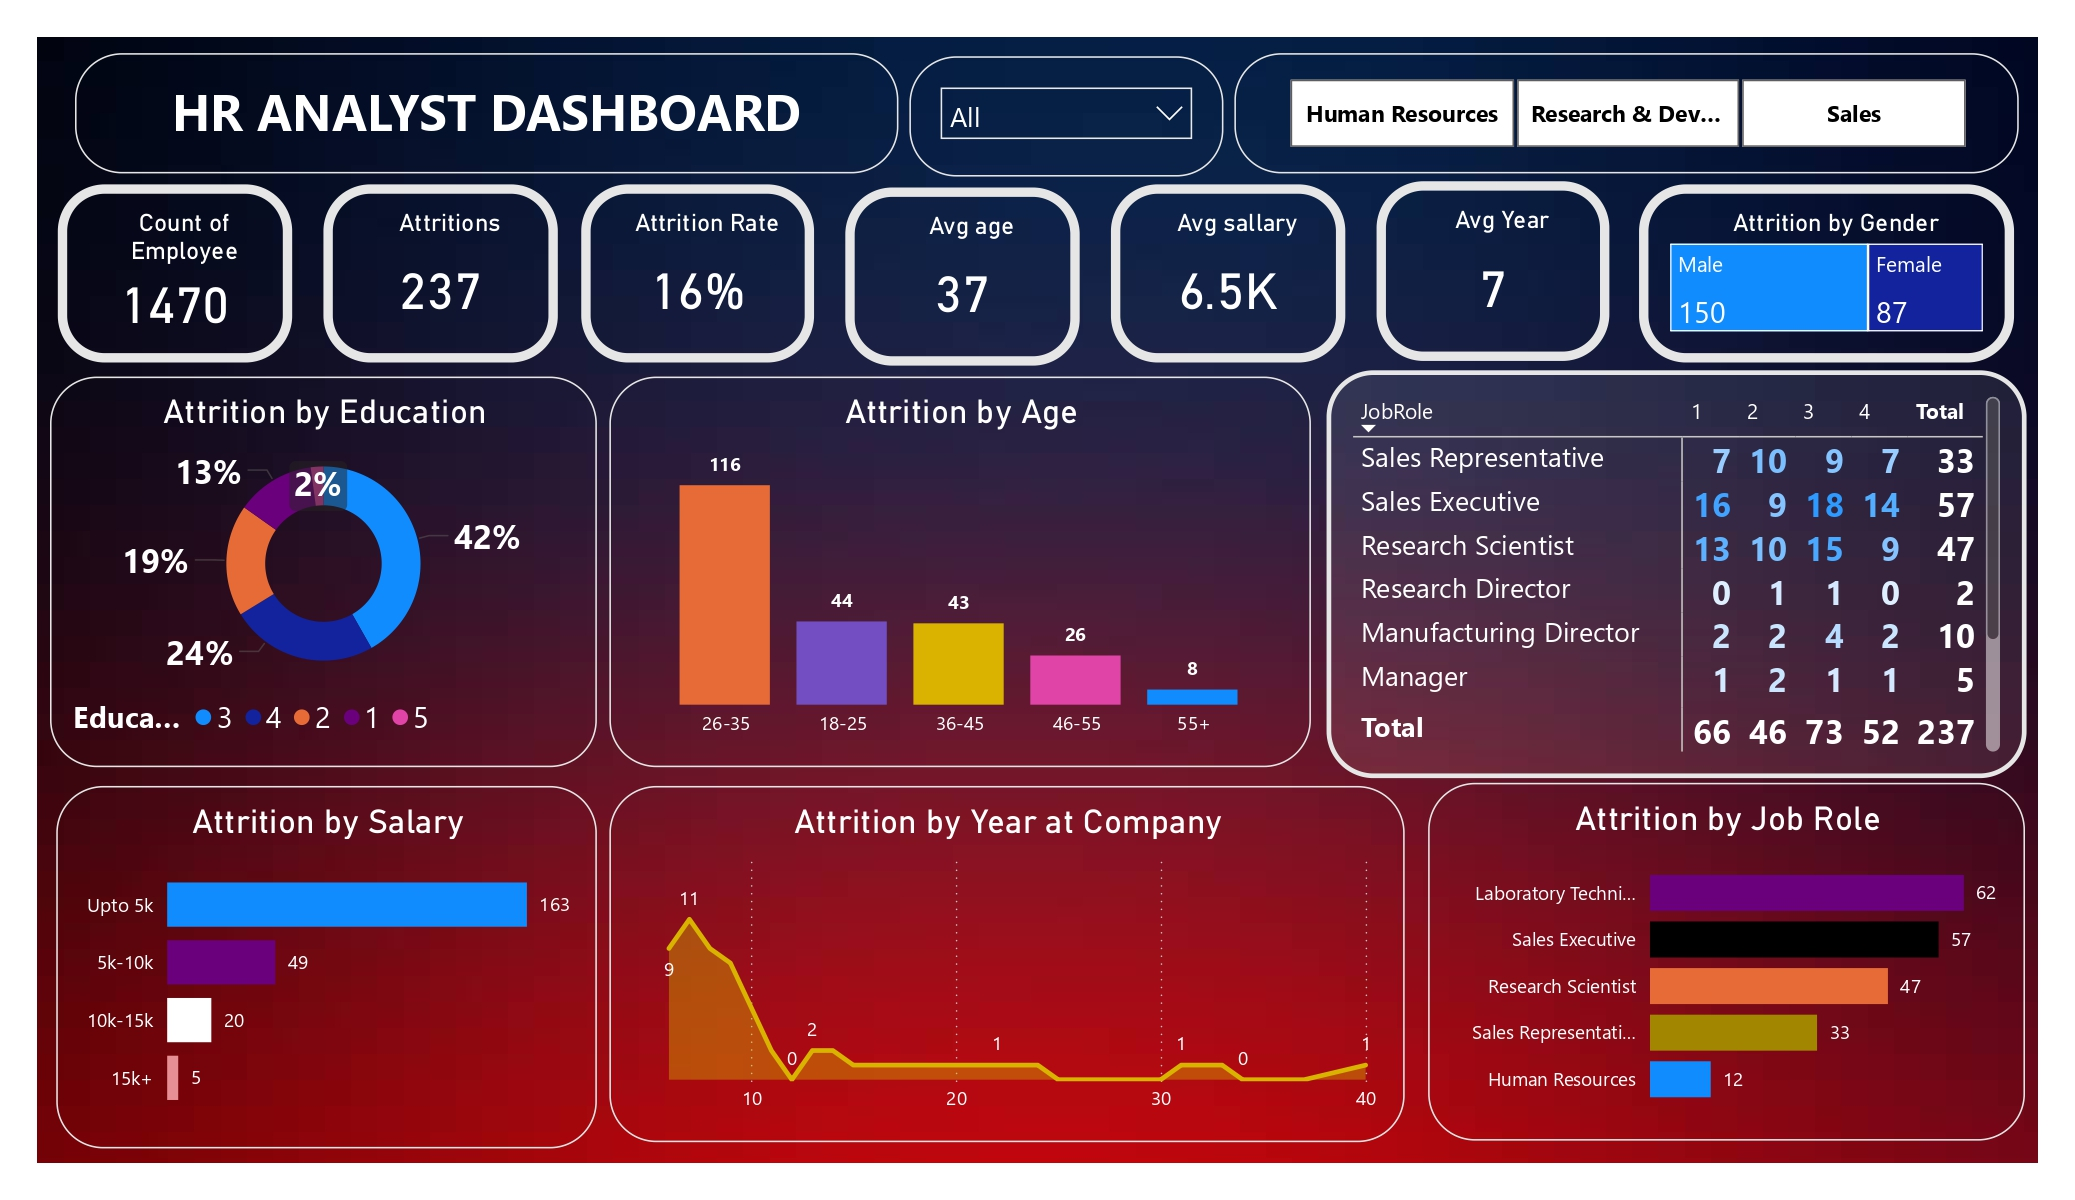

The dashboard page shown, as its layout file describes it:
{"tool":"powerbi","page":{"name":"Page 1","canvas":[1280,720],"ordinal":0},"visuals":[{"type":"card","title":"Count of Employee","fields":{"Values":["CountNonNull(HR_Analytics.EmpID)"]},"box":[13.4,94.1,149.5,114.2],"z":0},{"type":"card","title":"Attritions","fields":{"Values":["Sum(HR_Analytics.Atrition Count)"]},"box":[183.1,94.1,149.5,114.2],"z":1000},{"type":"card","title":"Attrition Rate","fields":{"Values":["HR_Analytics.Attrition rate"]},"box":[347.7,94.1,149.5,114.2],"z":2000},{"type":"card","title":"Avg age","fields":{"Values":["Avg(HR_Analytics.Age)"]},"box":[517.4,95.7,149.5,114.2],"z":3000},{"type":"card","title":"Avg sallary","fields":{"Values":["Avg(HR_Analytics.MonthlyIncome)"]},"box":[687,94.1,149.5,114.2],"z":4000},{"type":"card","title":"Avg Year","fields":{"Values":["Avg(HR_Analytics.YearsAtCompany)"]},"box":[856.7,92.4,149.5,114.2],"z":5000},{"type":"donutChart","title":"Attrition by Education","fields":{"Category":["HR_Analytics.Education"],"Y":["Sum(HR_Analytics.Atrition Count)"]},"box":[8.4,216.7,349.4,250.3],"z":6000},{"type":"columnChart","title":"Attrition by Age","fields":{"Y":["Sum(HR_Analytics.Atrition Count)"],"Category":["HR_Analytics.AgeGroup"]},"box":[366.2,216.7,448.5,250.3],"z":7000},{"type":"pivotTable","fields":{"Rows":["HR_Analytics.JobRole"],"Columns":["HR_Analytics.JobSatisfaction"],"Values":["Sum(HR_Analytics.Atrition Count)"]},"box":[824.8,213.3,448.5,260.4],"z":8000},{"type":"barChart","title":"Attrition by Salary","fields":{"Category":["HR_Analytics.SalarySlab"],"Y":["Sum(HR_Analytics.Atrition Count)"]},"box":[11.8,478.7,346,232],"z":9000},{"type":"barChart","title":"Attrition by Job Role","fields":{"Category":["HR_Analytics.JobRole"],"Y":["Sum(HR_Analytics.Atrition Count)"]},"box":[890.3,477.1,381.3,228.5],"z":10000},{"type":"areaChart","title":"Attrition by Year at Company","fields":{"Y":["Sum(HR_Analytics.Atrition Count)"],"Category":["HR_Analytics.YearsAtCompany"]},"box":[366.2,478.7,509,228.5],"z":11000},{"type":"treemap","title":"Attrition by Gender","fields":{"Group":["HR_Analytics.Gender"],"Values":["Sum(HR_Analytics.Atrition Count)"]},"box":[1024.7,94.1,240.2,114.2],"z":12000},{"type":"slicer","fields":{"Values":["HR_Analytics.Department"]},"box":[766,10.1,502.3,77.3],"z":13000},{"type":"textbox","box":[23.5,10.1,527.5,77.3],"z":14000},{"type":"slicer","fields":{"Values":["HR_Analytics.JobRole"]},"box":[557.7,11.8,201.6,77.3],"z":15000}]}

Visuals, with their boxes in screenshot pixels (x1, y1, x2, y2):
"Count of Employee" card: (58, 185, 292, 363)
"Attritions" card: (324, 185, 557, 363)
"Attrition Rate" card: (581, 185, 814, 363)
"Avg age" card: (846, 187, 1080, 365)
"Avg sallary" card: (1111, 185, 1345, 363)
"Avg Year" card: (1376, 182, 1610, 360)
"Attrition by Education" donutChart: (51, 376, 597, 767)
"Attrition by Age" columnChart: (610, 376, 1310, 767)
pivotTable - HR_Analytics.JobRole x HR_Analytics.JobSatisfaction: (1326, 371, 2027, 778)
"Attrition by Salary" barChart: (56, 785, 597, 1148)
"Attrition by Job Role" barChart: (1429, 783, 2024, 1140)
"Attrition by Year at Company" areaChart: (610, 785, 1405, 1142)
"Attrition by Gender" treemap: (1639, 185, 2014, 363)
slicer - HR_Analytics.Department: (1234, 53, 2019, 174)
textbox: (74, 53, 898, 174)
slicer - HR_Analytics.JobRole: (909, 56, 1224, 177)
